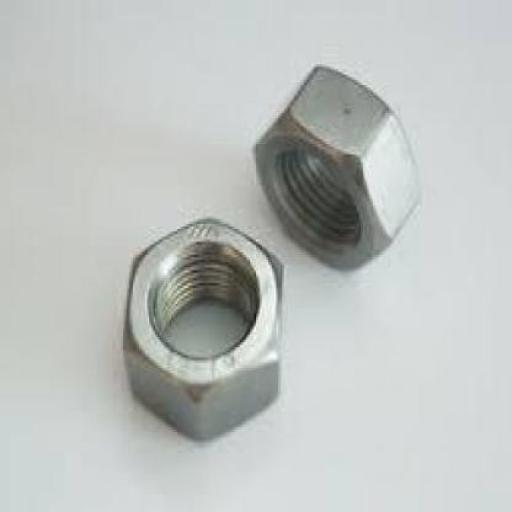nut: (122, 215, 284, 443), (252, 65, 422, 272)
